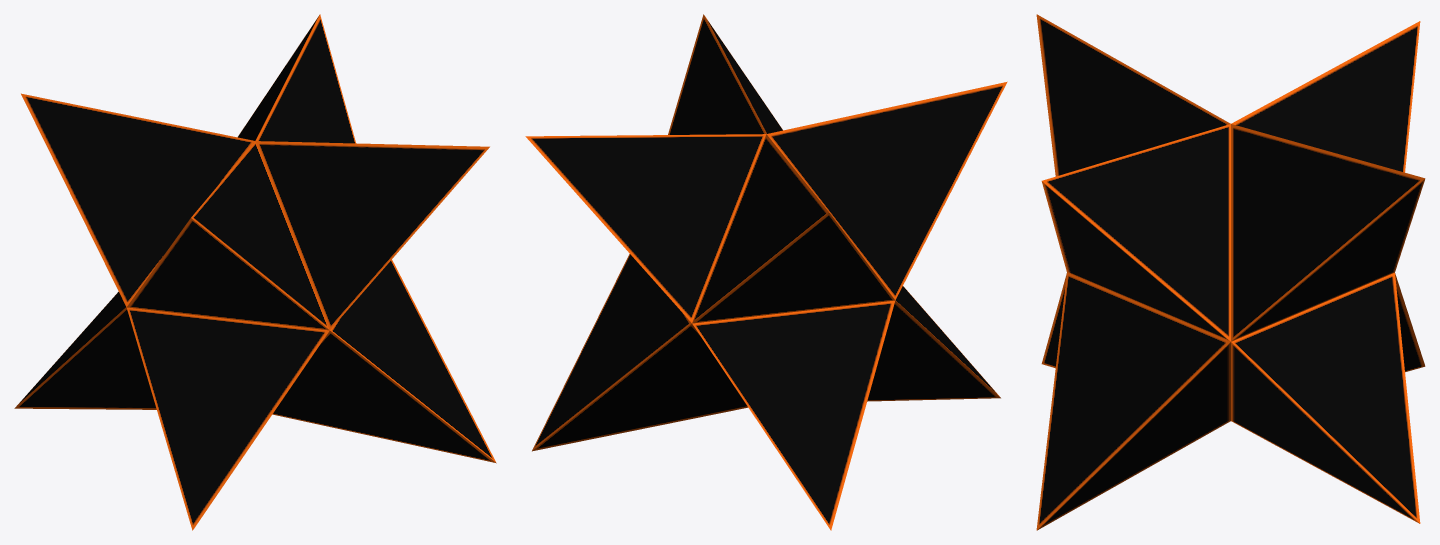
The model's file is CodeRedS2.fbx.
The picture shows the model from 3 angles, left to right: view 1: azimuth 30°, elevation 25°; view 2: azimuth 150°, elevation 25°; view 3: azimuth 270°, elevation 25°; orthographic projection. The views are drawn at different scales.
Parts seen in each view (by area): view 1: pSolid1; view 2: pSolid1; view 3: pSolid1.
Part boxes in pixels (box(x1,y1,x2,y2)): pSolid1: box(14, 14, 496, 530); pSolid1: box(525, 14, 1007, 530); pSolid1: box(1036, 14, 1425, 530).
Bounding box in the file's own units: 2.37 × 2.37 × 2.37.
